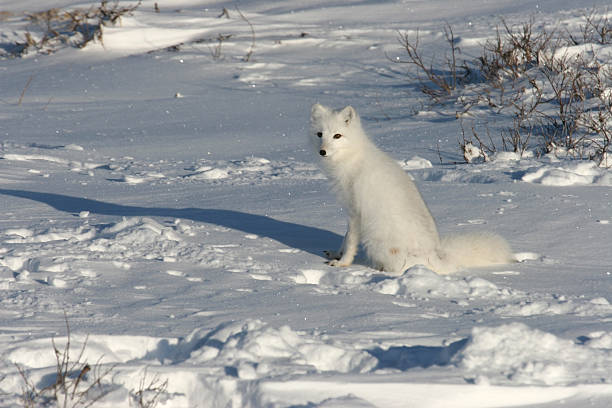arcticfox: (315, 120, 353, 169)
